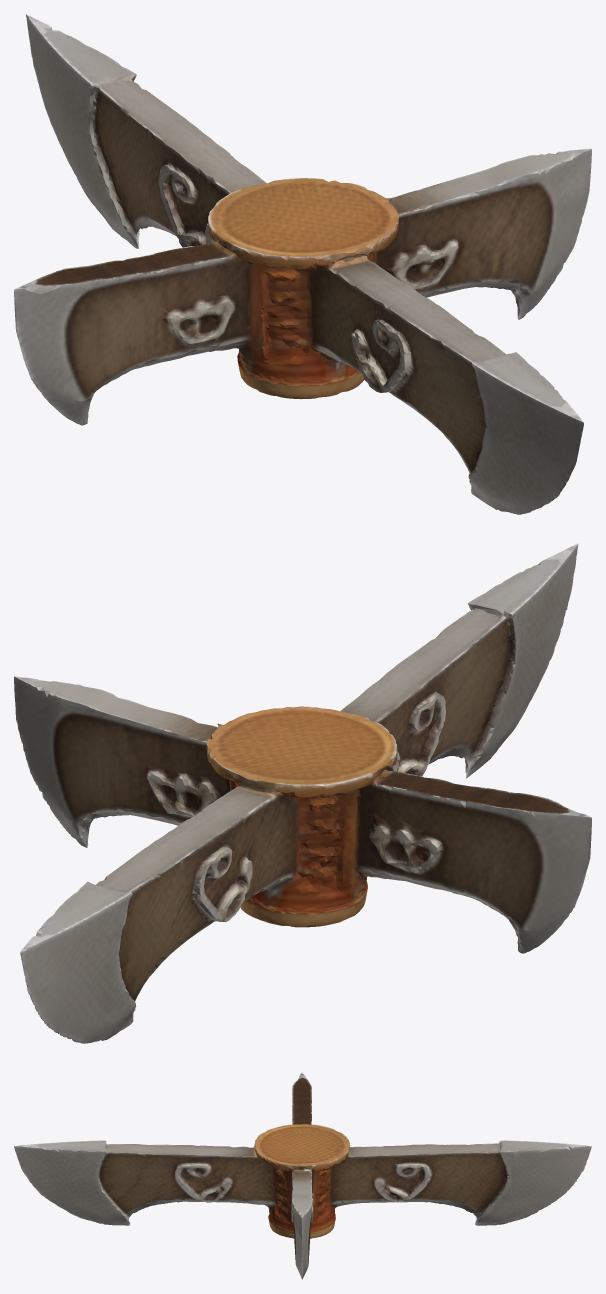
Rendered from viking_axe.glb.
3 views of the same model, one above another, from view 1: azimuth 30°, elevation 25°; view 2: azimuth 150°, elevation 25°; view 3: azimuth 270°, elevation 25° (orthographic). The views are drawn at different scales.
Visible parts, largest first — view 1: viking_axe; view 2: viking_axe; view 3: viking_axe.
Part boxes in pixels (x1,y1,x2,y2): viking_axe: (14,14,591,514); viking_axe: (14,543,591,1043); viking_axe: (14,1072,591,1279).
Bounding box in the file's own units: 1.13 × 0.2913 × 1.89.
1 material, 1 textured.
